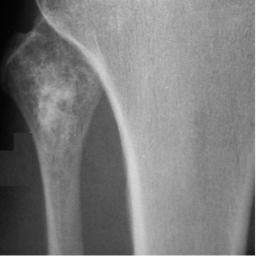cancer: (6, 32, 106, 253)
